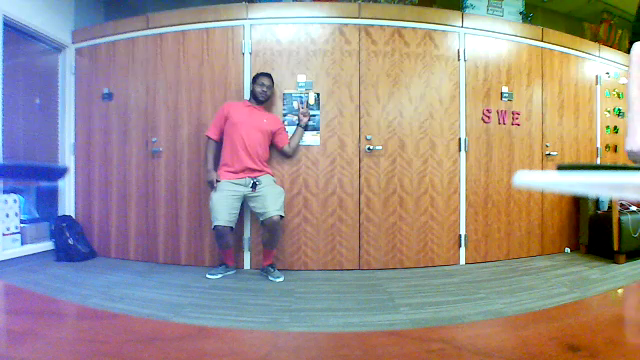peace: (296, 99, 314, 127)
